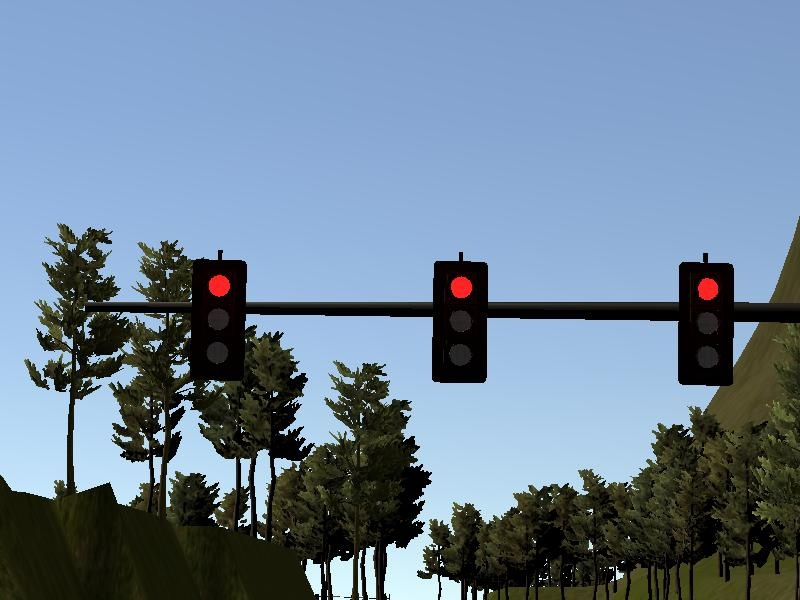red: (674, 259, 740, 390), (186, 254, 250, 385), (429, 254, 491, 386)
